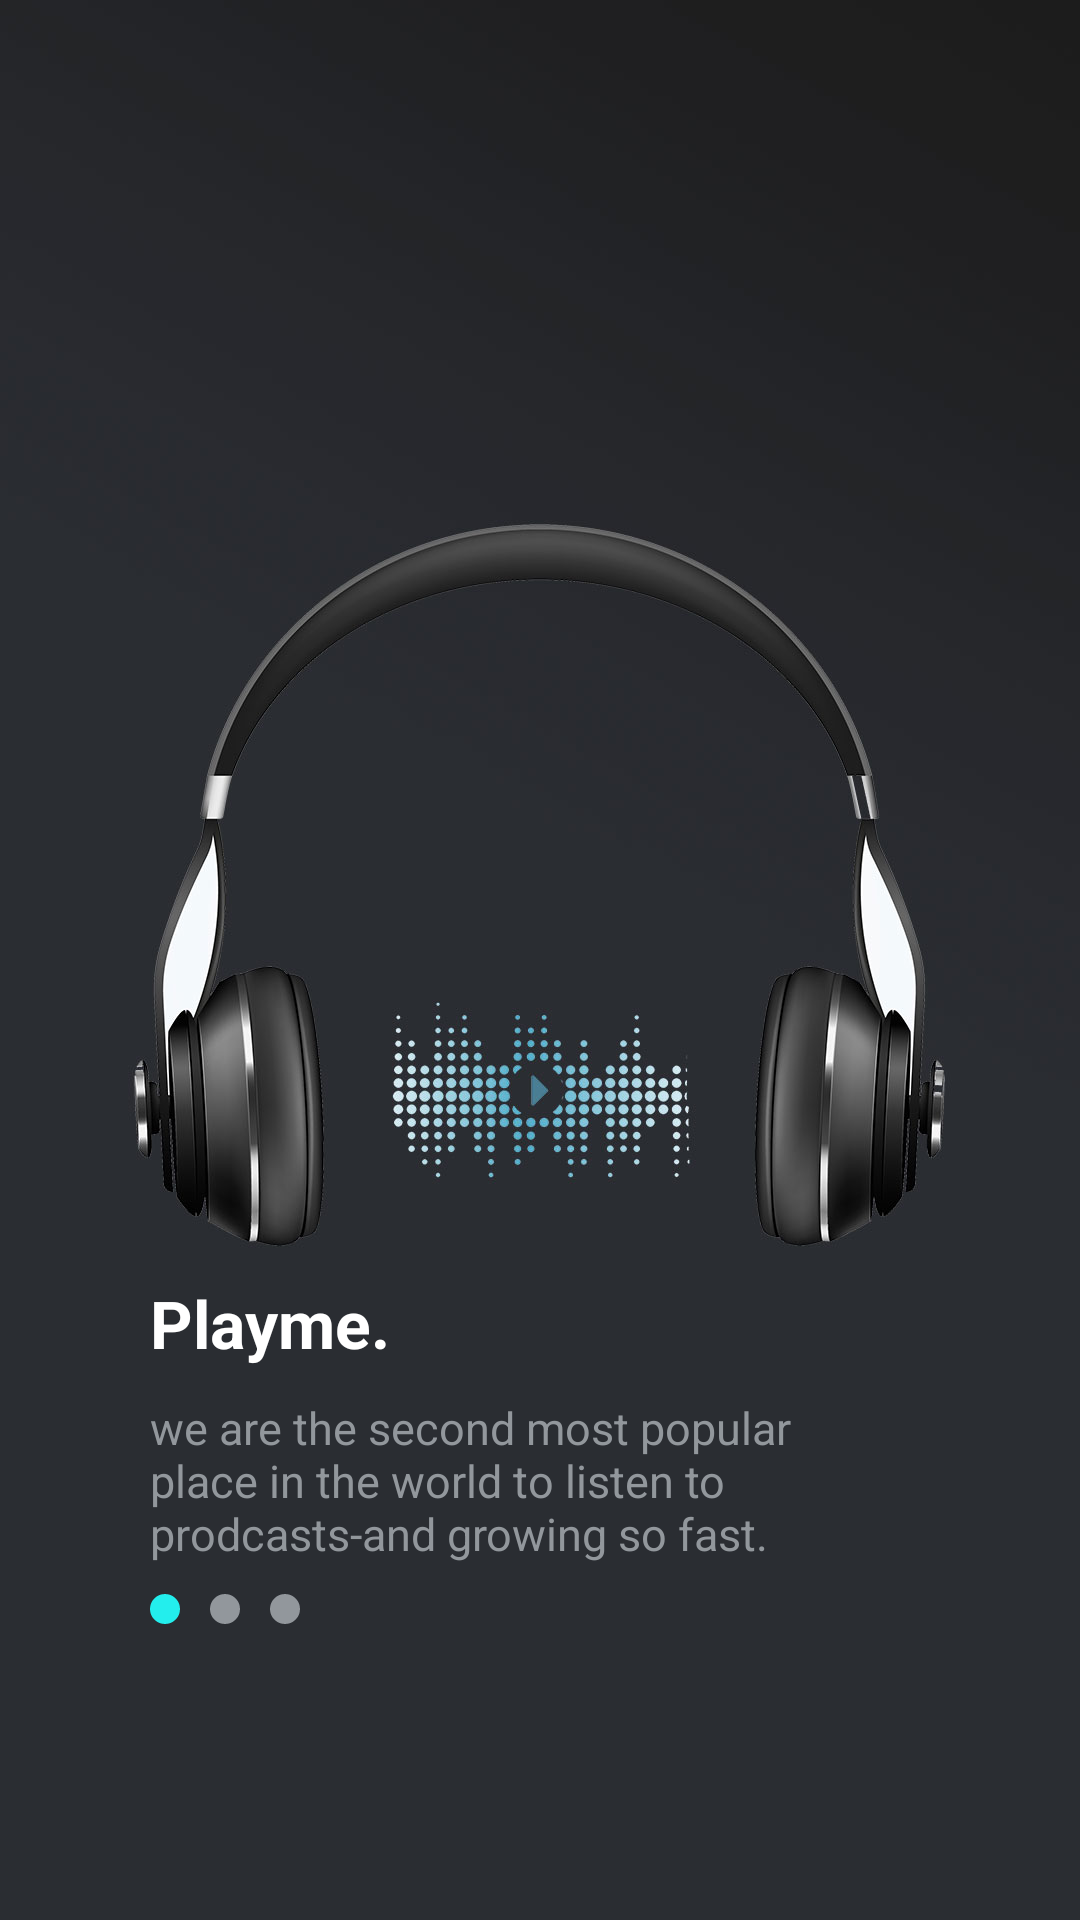

Screen size 1080w x 1920h. Icon name, then its center in pixels as point (x, y):
index circuler off: point (225, 1609), point (285, 1609)
index circuler on: point (165, 1609)
